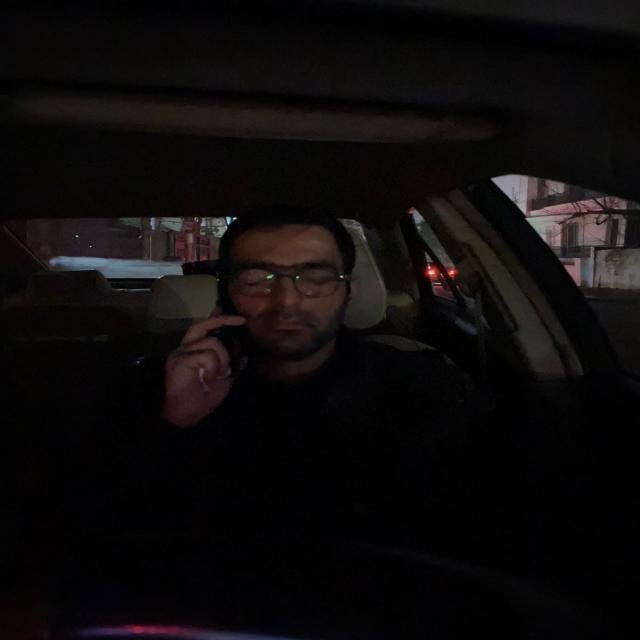drowsy: (204, 200, 364, 373)
